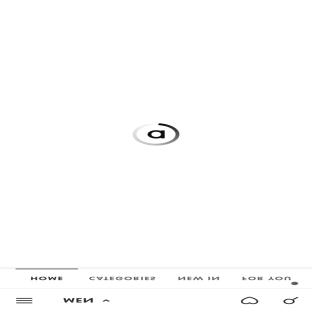Dropdown: (62, 298, 111, 305)
Hamburger icon: (16, 296, 36, 305)
Loading Icon: (133, 122, 185, 147)
Search Icon: (278, 296, 301, 305)
love icon: (238, 296, 260, 305)
